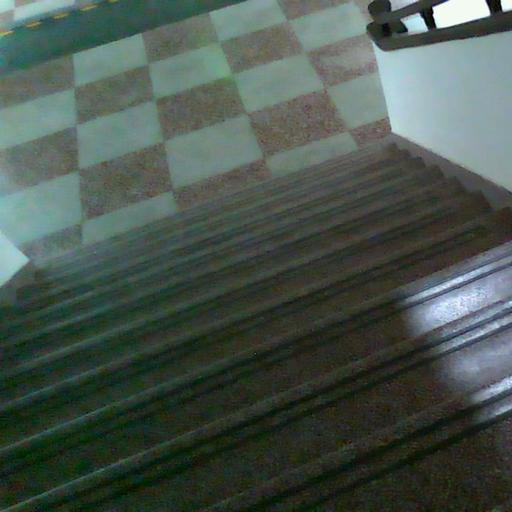Stairs: (0, 142, 512, 512)
